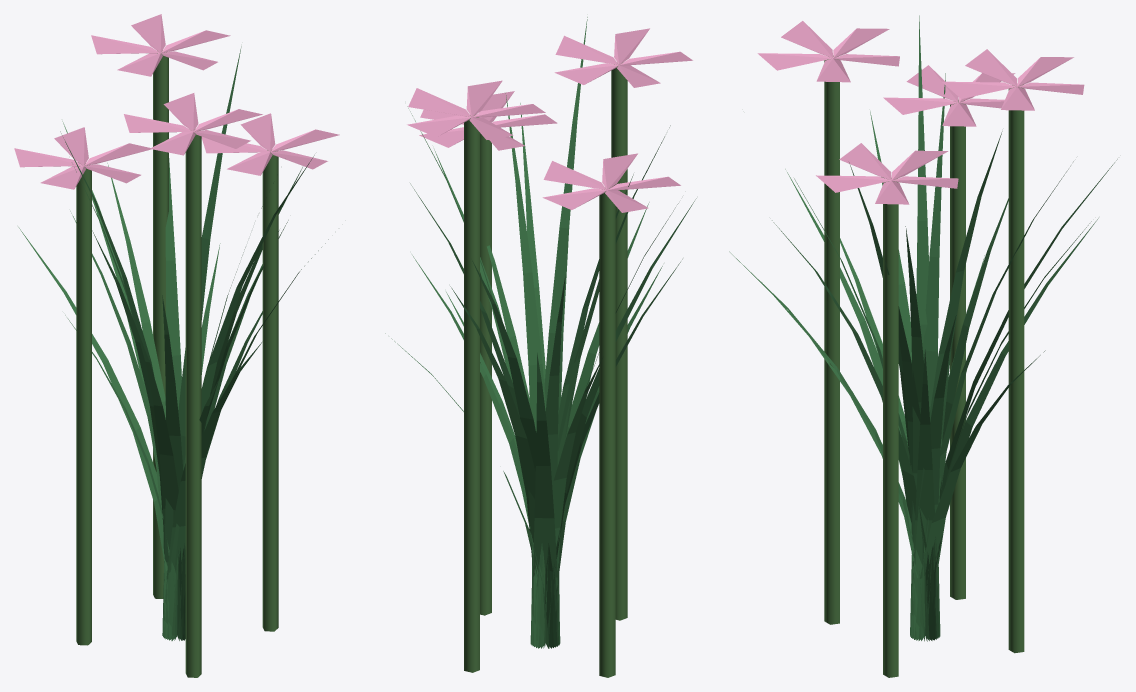
The model's file is zephyranthes-carinata.glb.
3 views of the same model, side by side, from view 1: azimuth 30°, elevation 25°; view 2: azimuth 150°, elevation 25°; view 3: azimuth 270°, elevation 25° (orthographic). The views are drawn at different scales.
Visible parts, largest first — view 1: Lily flower stems, Zephyr lily strap leaves, Lily flowers; view 2: Lily flower stems, Zephyr lily strap leaves, Lily flowers; view 3: Lily flower stems, Zephyr lily strap leaves, Lily flowers.
Part boxes in pixels (box(x1,y1,x2,y2)): Lily flower stems: box(76, 50, 278, 677); Zephyr lily strap leaves: box(18, 46, 328, 640); Lily flowers: box(14, 14, 339, 189); Lily flower stems: box(464, 64, 627, 677); Zephyr lily strap leaves: box(385, 17, 696, 648); Lily flowers: box(407, 28, 692, 212); Lily flower stems: box(824, 55, 1024, 677); Zephyr lily strap leaves: box(729, 15, 1117, 641); Lily flowers: box(757, 21, 1084, 204).
Bounding box in the file's own units: 0.1508 × 0.2892 × 0.1811.
